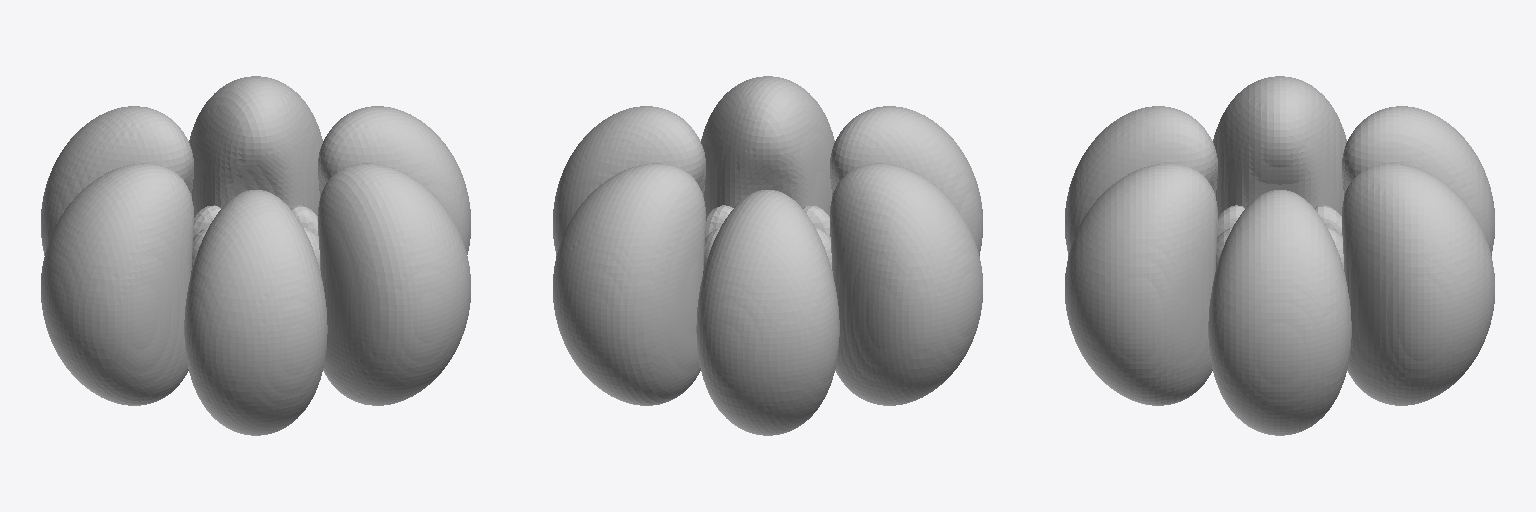
Rendered from orb_n=5_ l=3 _m=3.obj.
3 views of the same model, side by side, from view 1: azimuth 30°, elevation 25°; view 2: azimuth 150°, elevation 25°; view 3: azimuth 270°, elevation 25° (orthographic).
Parts seen in each view (by area): view 1: orb_n=5__l=3__m=3; view 2: orb_n=5__l=3__m=3; view 3: orb_n=5__l=3__m=3.
Boxes of the visible parts, x1,y1,x2,y2 form: orb_n=5__l=3__m=3: [41, 76, 470, 435]; orb_n=5__l=3__m=3: [553, 76, 982, 435]; orb_n=5__l=3__m=3: [1065, 76, 1494, 435].
Size of the model in its own units: 110 by 60.36 by 101.